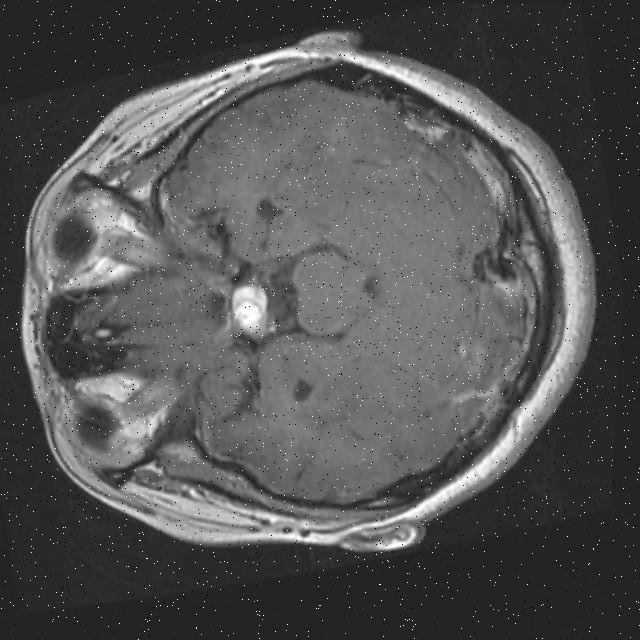Pituitary: (221, 276, 277, 345)
